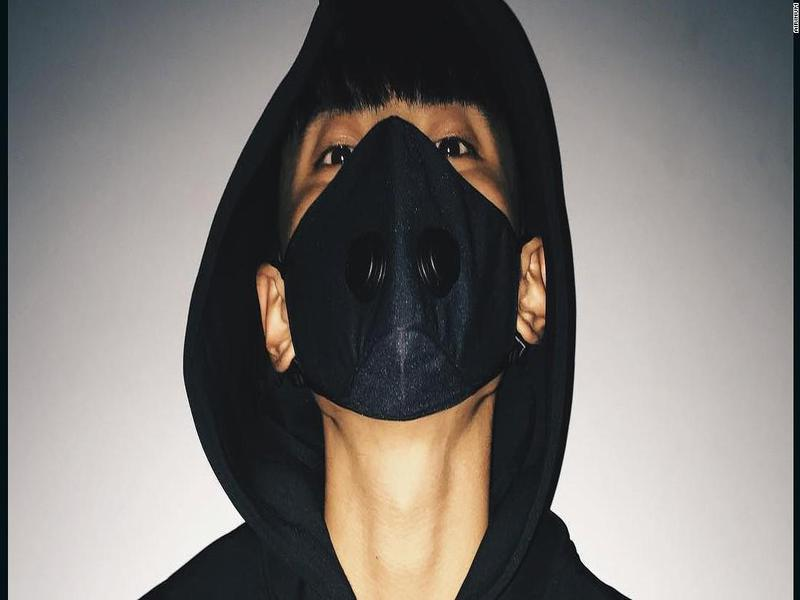with_mask: (285, 86, 517, 431)
